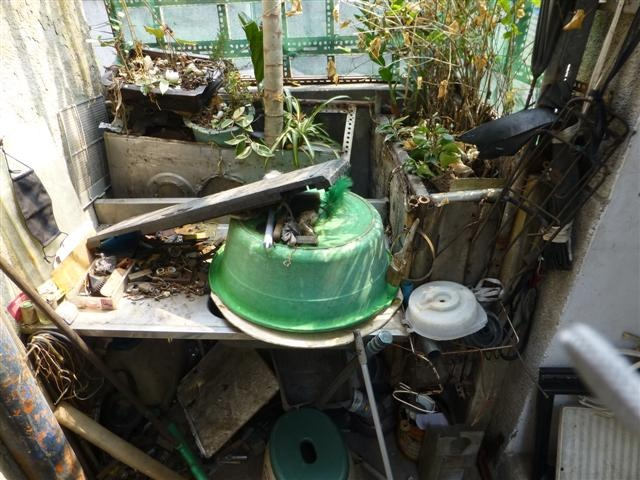bowl: (207, 187, 401, 335), (402, 276, 498, 344)
